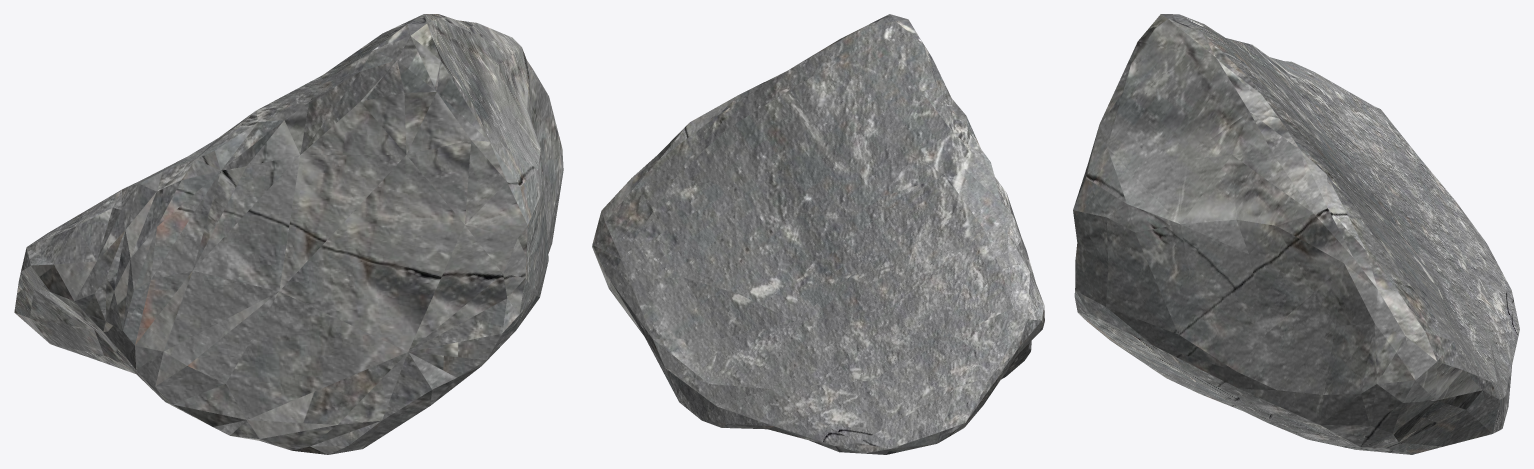
File: Rock 0.obj
3 views of the same model, side by side, from view 1: azimuth 30°, elevation 25°; view 2: azimuth 150°, elevation 25°; view 3: azimuth 270°, elevation 25° (orthographic). The views are drawn at different scales.
Parts seen in each view (by area): view 1: Mesh1 skp14A1 Model; view 2: Mesh1 skp14A1 Model; view 3: Mesh1 skp14A1 Model.
Part boxes in pixels (<box>): Mesh1 skp14A1 Model: <box>14,14,563,454</box>; Mesh1 skp14A1 Model: <box>592,14,1044,454</box>; Mesh1 skp14A1 Model: <box>1073,14,1519,454</box>.
Bounding box in the file's own units: 1137 × 825 × 858.
Materials: 1 (1 with a texture image).
